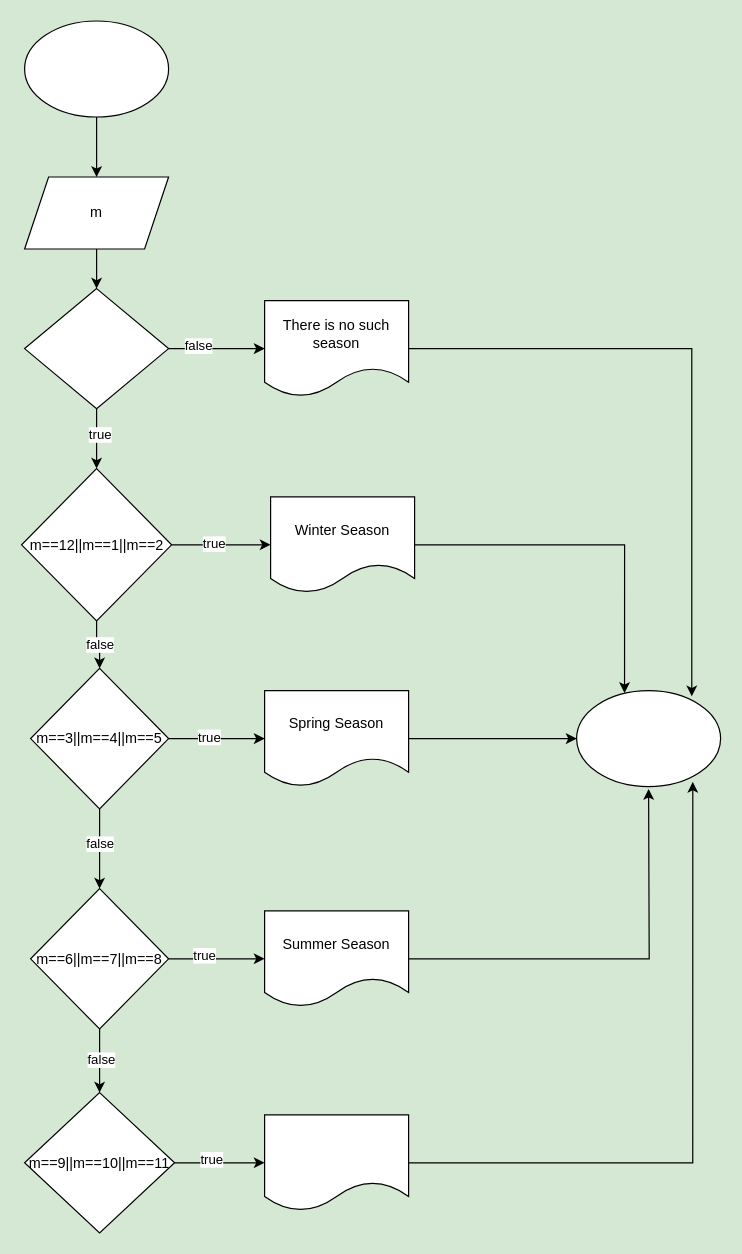
Image size: 742x1254. Some labels were removed from this diagram. The centre of each missing label's shape, as x and y in pixels:
0<m<=12: point 96,348
Autmn season: point 336,1162
End: point 648,738
Start: point 96,68
